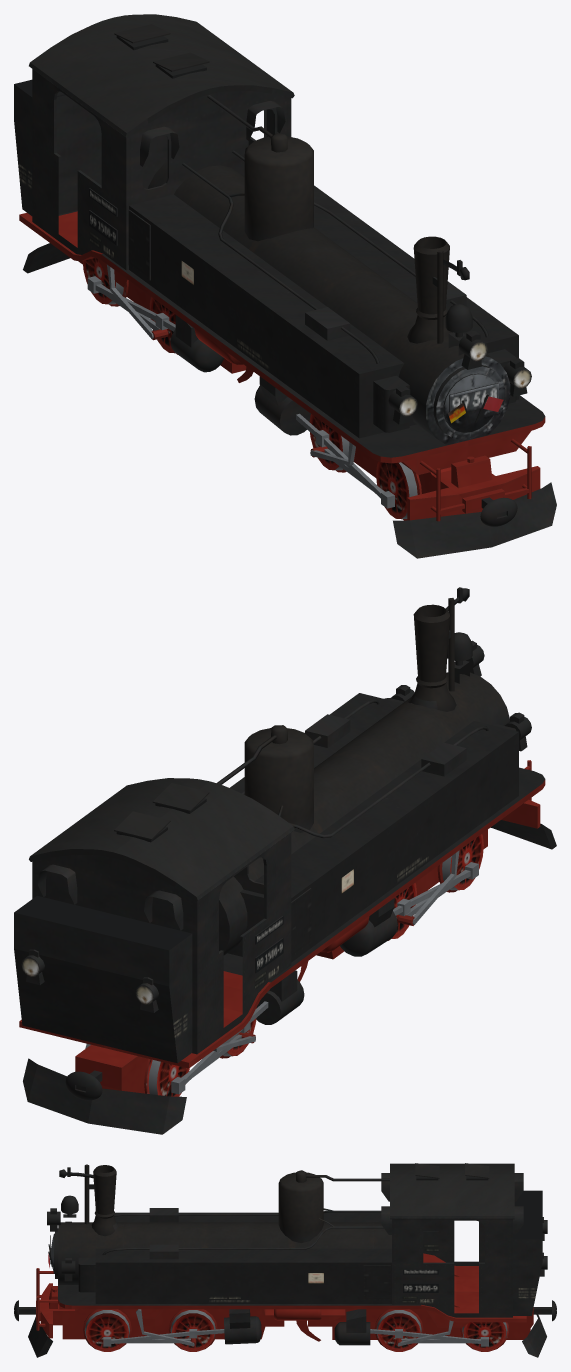
Rendered from saxon_iv_k.gltf.
3 renders of one model, top to bottom at view 1: azimuth 30°, elevation 25°; view 2: azimuth 150°, elevation 25°; view 3: azimuth 270°, elevation 25°, orthographic. The views are drawn at different scales.
Visible parts, largest first — view 1: saxon_iv_k; view 2: saxon_iv_k; view 3: saxon_iv_k.
Part boxes in pixels (<box>): saxon_iv_k: <box>14,14,556,558</box>; saxon_iv_k: <box>14,587,556,1134</box>; saxon_iv_k: <box>14,1163,556,1357</box>.
Bounding box in the file's own units: 2.07 × 3.19 × 8.93.
1 material, 1 textured.
